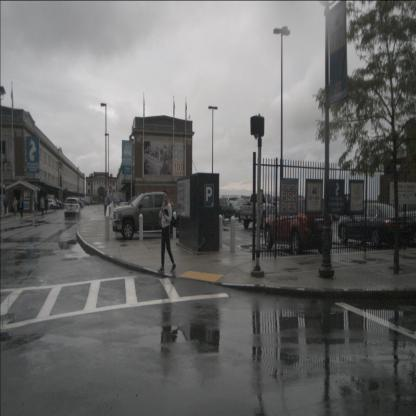human-pedestrian-adult: (157, 191, 178, 274), (12, 196, 18, 217), (18, 197, 24, 218), (3, 197, 8, 216), (33, 198, 38, 215), (41, 197, 45, 217), (44, 196, 48, 213)
vehicle-car: (265, 197, 333, 255), (338, 203, 413, 248), (214, 198, 236, 223), (231, 198, 251, 221), (64, 198, 82, 221), (43, 199, 57, 210)
vehicle-truck: (112, 190, 188, 239), (239, 192, 281, 228), (81, 196, 95, 205)
